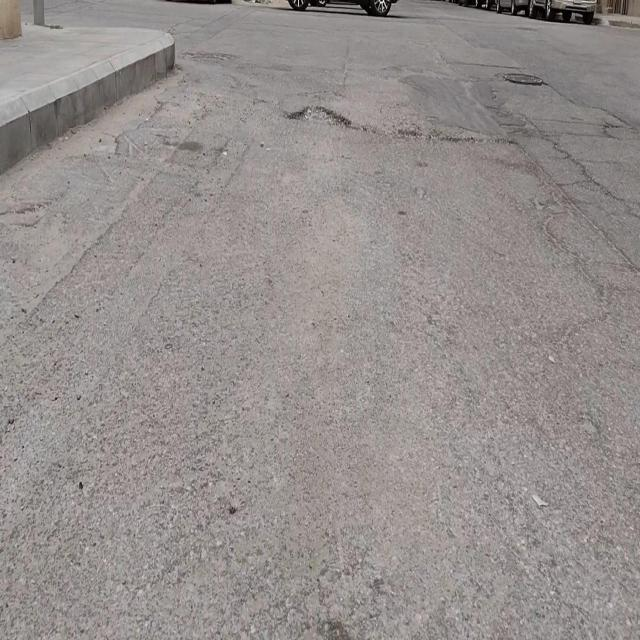Potholes: (287, 103, 352, 128)
